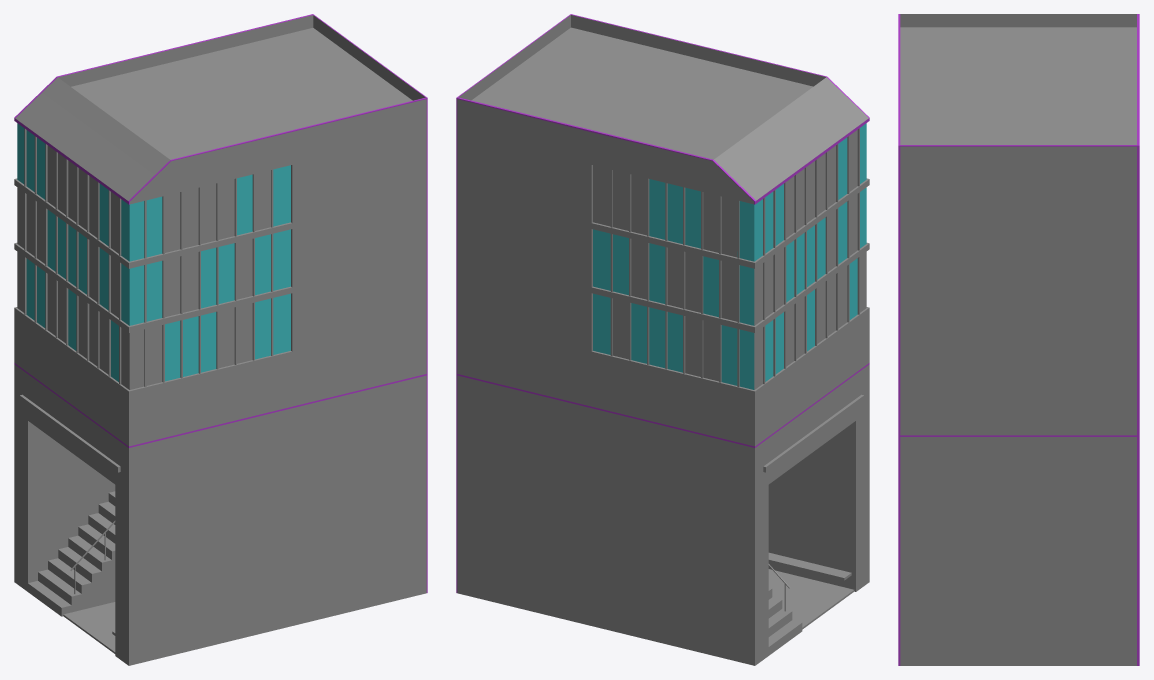
The model's file is BuildingS_02_var1.fbx.
3 renders of one model, left to right at view 1: azimuth 30°, elevation 25°; view 2: azimuth 150°, elevation 25°; view 3: azimuth 270°, elevation 25°, orthographic. The views are drawn at different scales.
Parts seen in each view (by area): view 1: BuildingS_02_var1; view 2: BuildingS_02_var1; view 3: BuildingS_02_var1.
Boxes of the visible parts, box(x1,y1,x2,y2) form: BuildingS_02_var1: box(14, 14, 427, 665); BuildingS_02_var1: box(456, 14, 869, 665); BuildingS_02_var1: box(898, 14, 1139, 665).
Size of the model in its own units: 0.3203 by 0.5025 by 0.2109.
